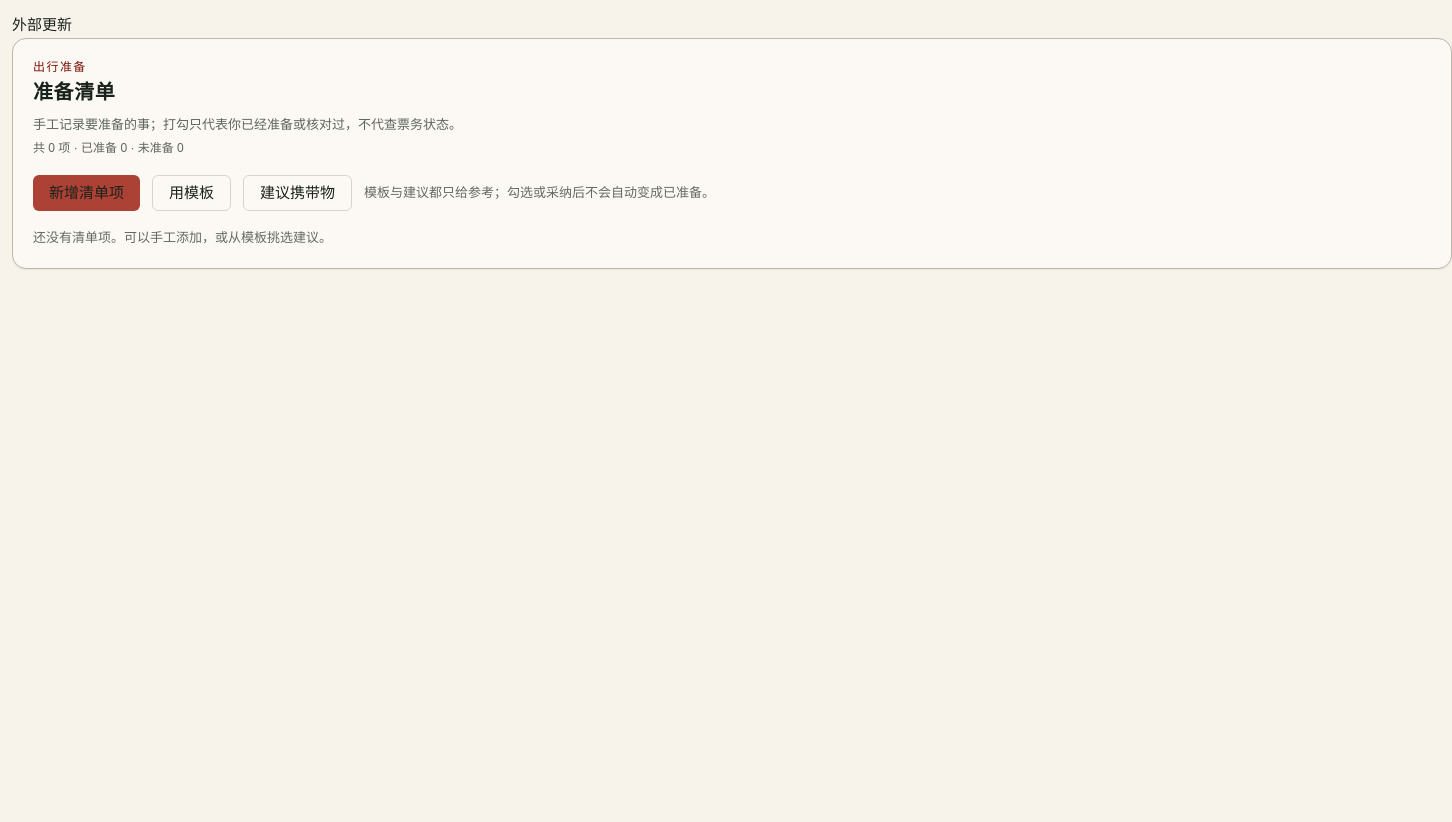
Scenario: ChecklistPanel · 模板与关联 › shows template suggestions without writing; selected additions stay not-done
The image size is (1452, 822).
Click the button "用模板". click: (192, 193)
box: [152, 175, 231, 211]
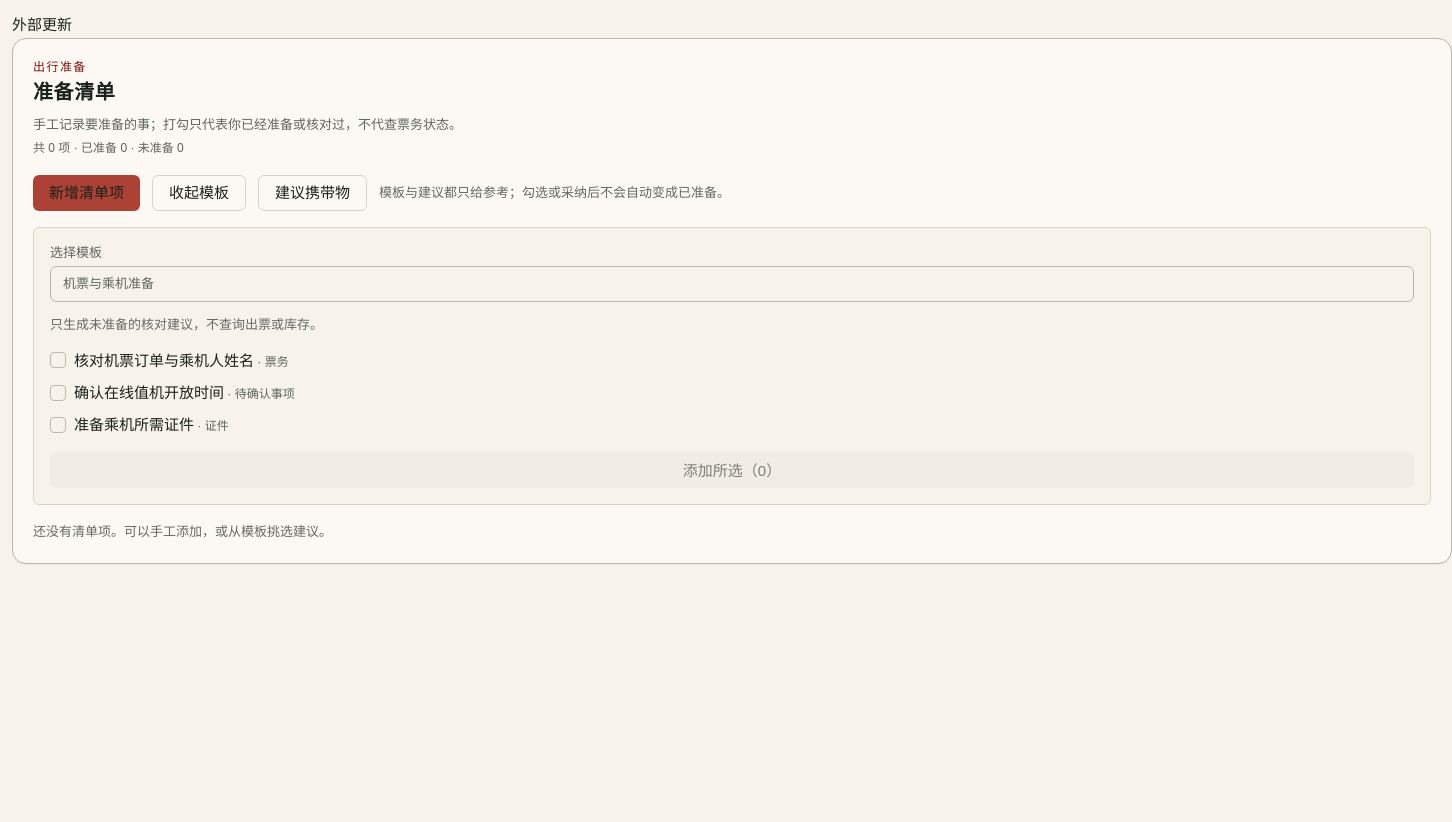
Expected: the checkbox labelled "核对机票订单与乘机人姓名 · 票务" is not checked
Click the checkbox labelled "核对机票订单与乘机人姓名 · 票务". click: (58, 360)
box: [50, 352, 66, 368]
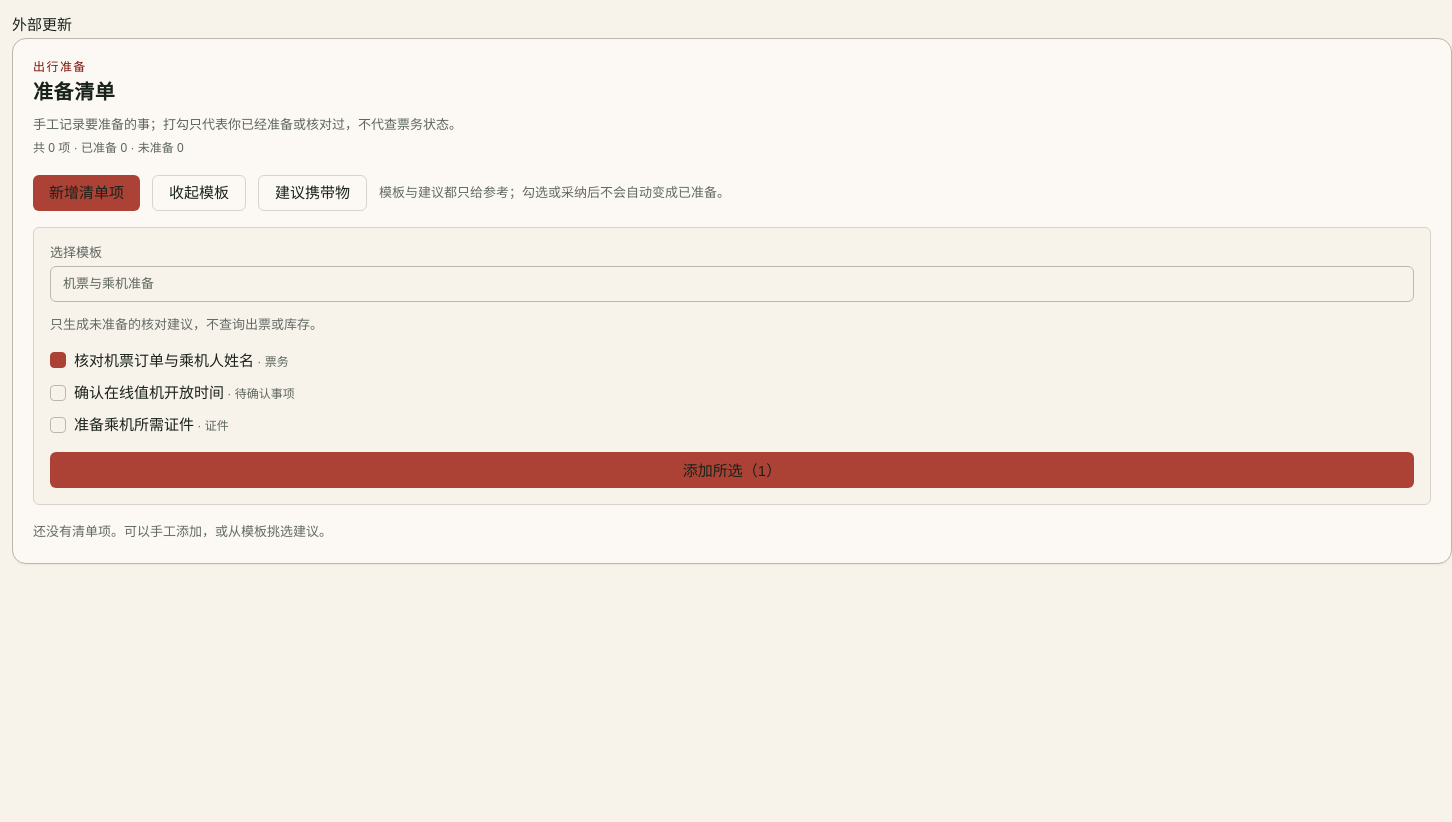
Click the button "添加所选（1）". click: (732, 470)
box: [50, 452, 1414, 488]
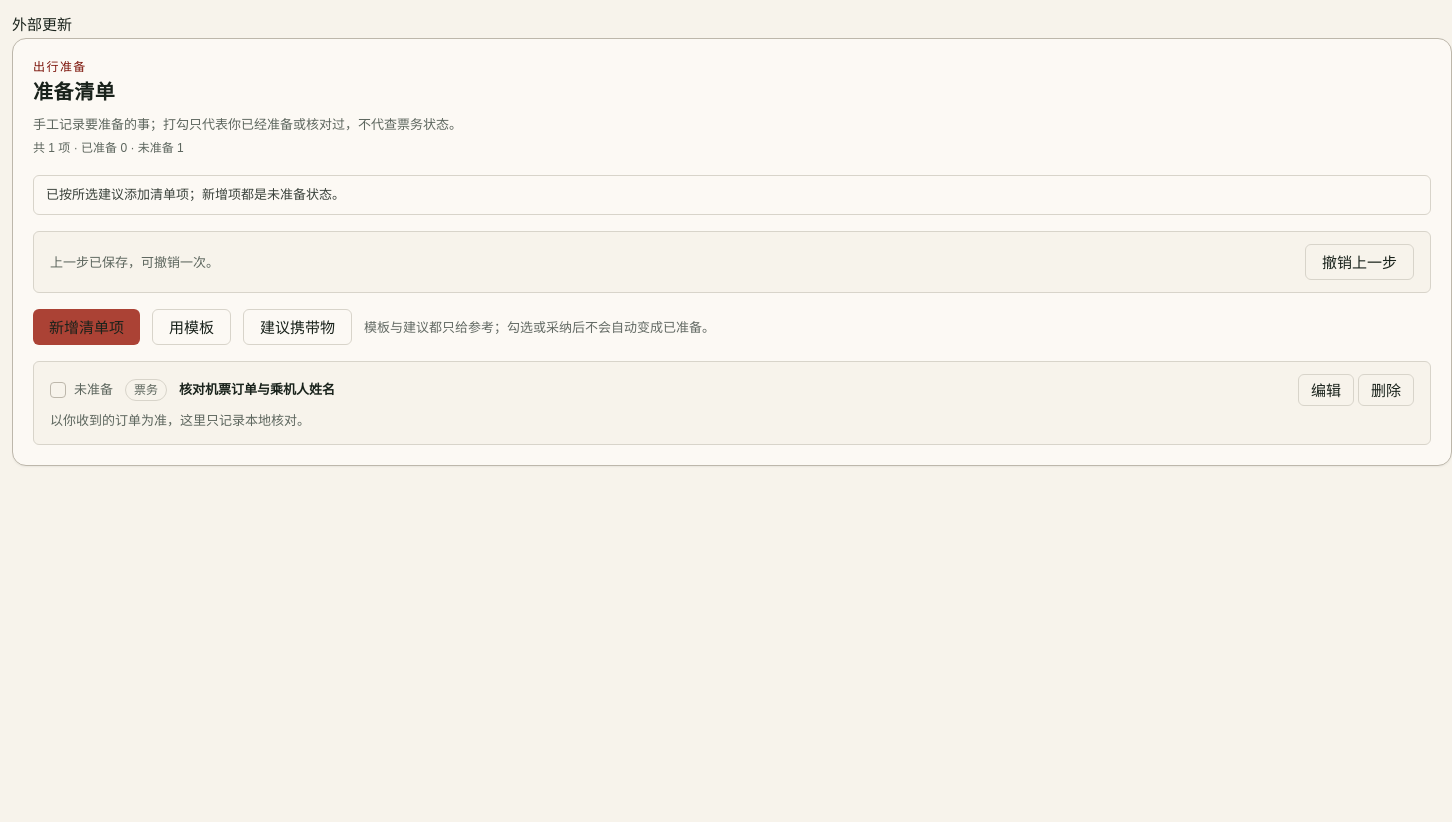
Expected: the text "核对机票订单与乘机人姓名" is shown, [179, 382, 335, 397]
Expected: the checkbox named "核对机票订单与乘机人姓名：未准备" is not checked, [50, 382, 66, 398]
